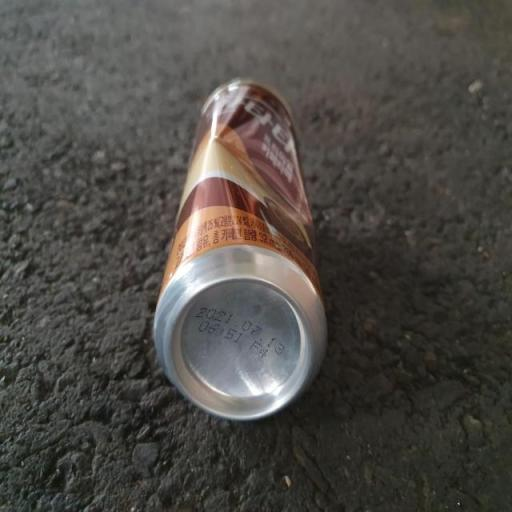metal: (136, 46, 320, 436)
